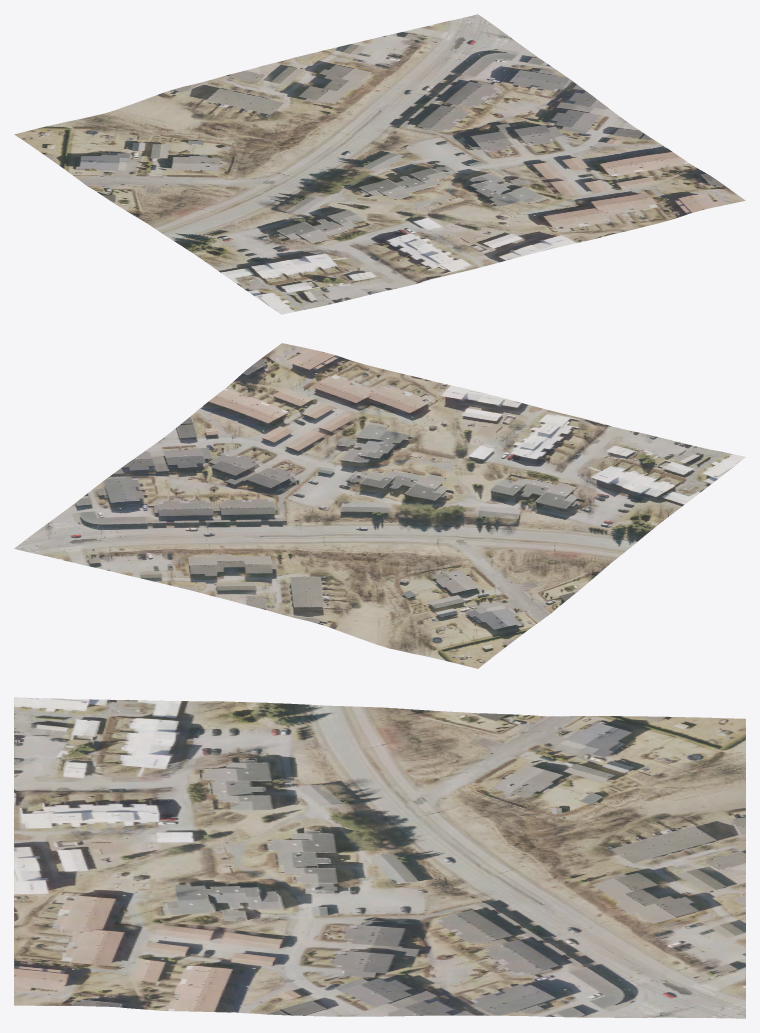
Rendered from CM_Terrain_24490458_6818156.fbx.
The picture shows the model from 3 angles, top to bottom: view 1: azimuth 30°, elevation 25°; view 2: azimuth 150°, elevation 25°; view 3: azimuth 270°, elevation 25°; orthographic projection. The views are drawn at different scales.
Visible parts, largest first — view 1: CM_Terrain_24490458_6818156_LOD0; view 2: CM_Terrain_24490458_6818156_LOD0; view 3: CM_Terrain_24490458_6818156_LOD0.
Boxes of the visible parts, left/top/right/bottom form: CM_Terrain_24490458_6818156_LOD0: left=14, top=14, right=745, bottom=314; CM_Terrain_24490458_6818156_LOD0: left=14, top=343, right=745, bottom=668; CM_Terrain_24490458_6818156_LOD0: left=14, top=697, right=745, bottom=1018.
Size of what is drawn, in the model's own units: 205 by 8.04 by 205.
